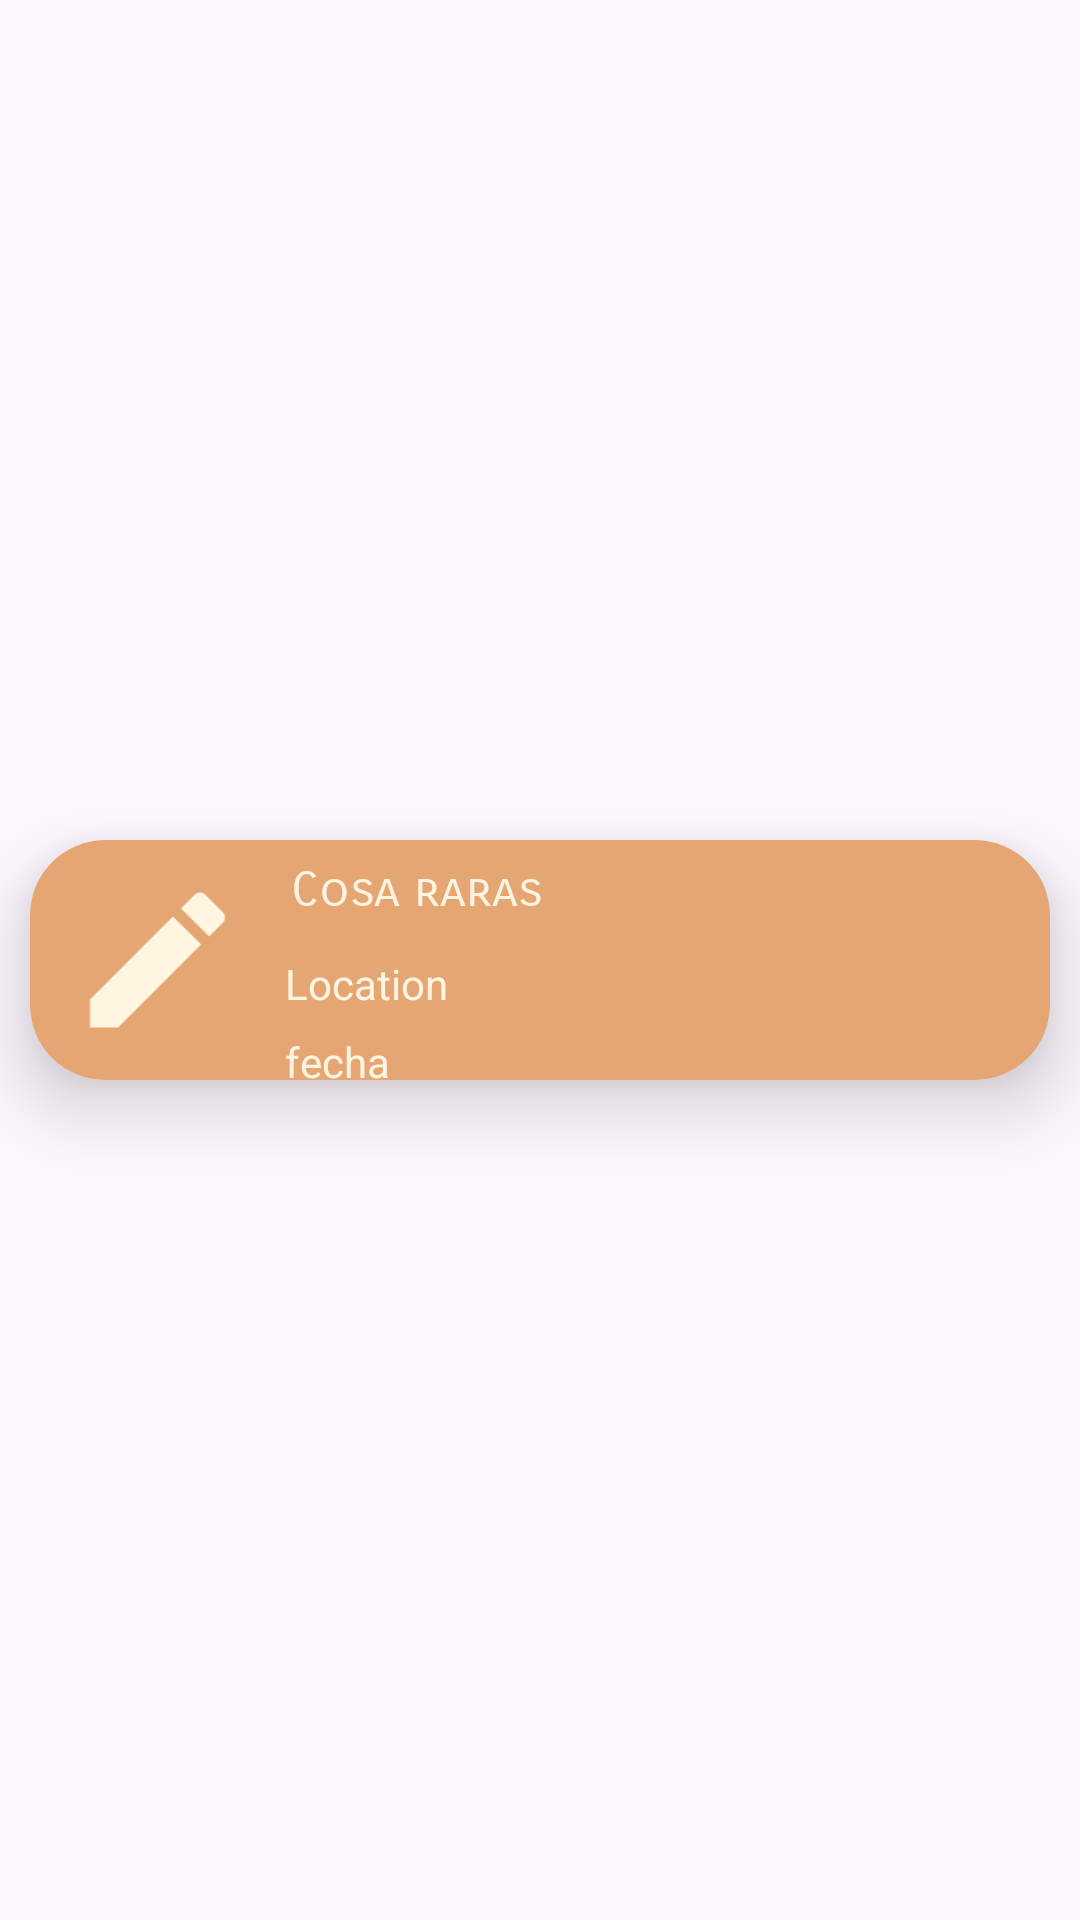

Icons on this 1080px×1920px Android screen, each with the point to tap as (x=x, y=y):
lapiz: (x=157, y=960)
